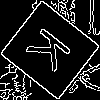K: (25, 25, 81, 81)
